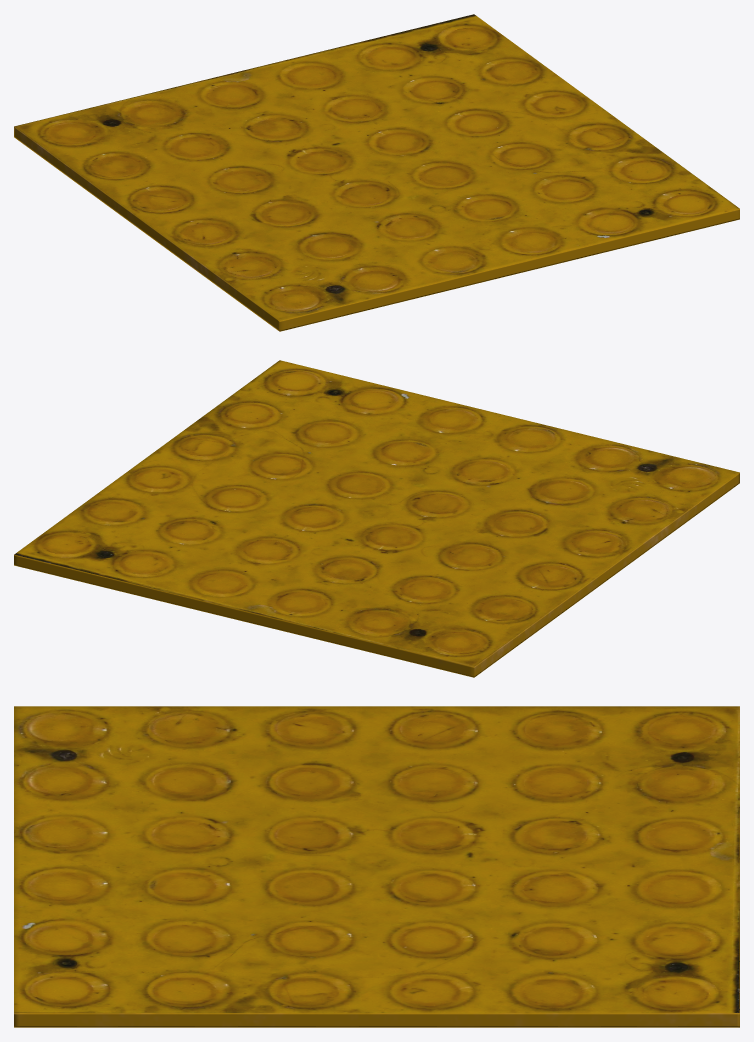
The model's file is SM_005_Braille_Road_1.fbx.
The picture shows the model from 3 angles, top to bottom: view 1: azimuth 30°, elevation 25°; view 2: azimuth 150°, elevation 25°; view 3: azimuth 270°, elevation 25°; orthographic projection. The views are drawn at different scales.
Parts seen in each view (by area): view 1: SM_005_Braille_Road_1; view 2: SM_005_Braille_Road_1; view 3: SM_005_Braille_Road_1.
Boxes of the visible parts, x1,y1,x2,y2 form: SM_005_Braille_Road_1: (14, 14, 739, 331); SM_005_Braille_Road_1: (14, 360, 739, 677); SM_005_Braille_Road_1: (14, 706, 739, 1027).
Bounding box in the file's own units: 30 × 30 × 0.674.
1 material, 1 textured.
